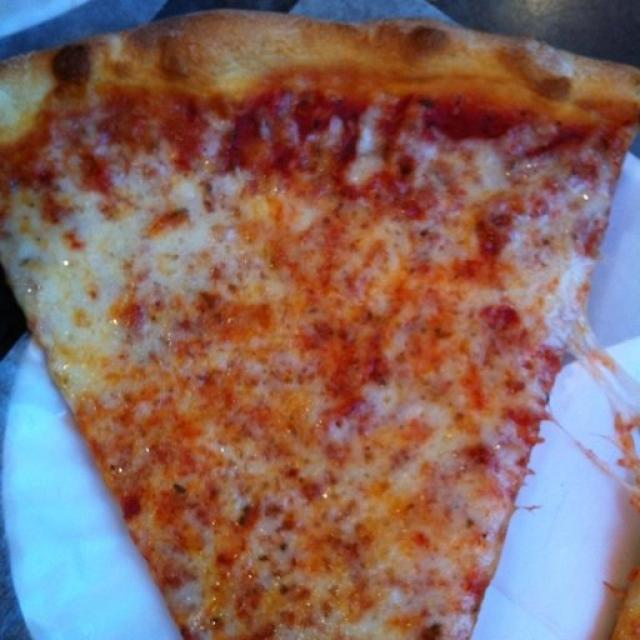Pizza: (0, 12, 640, 640)
